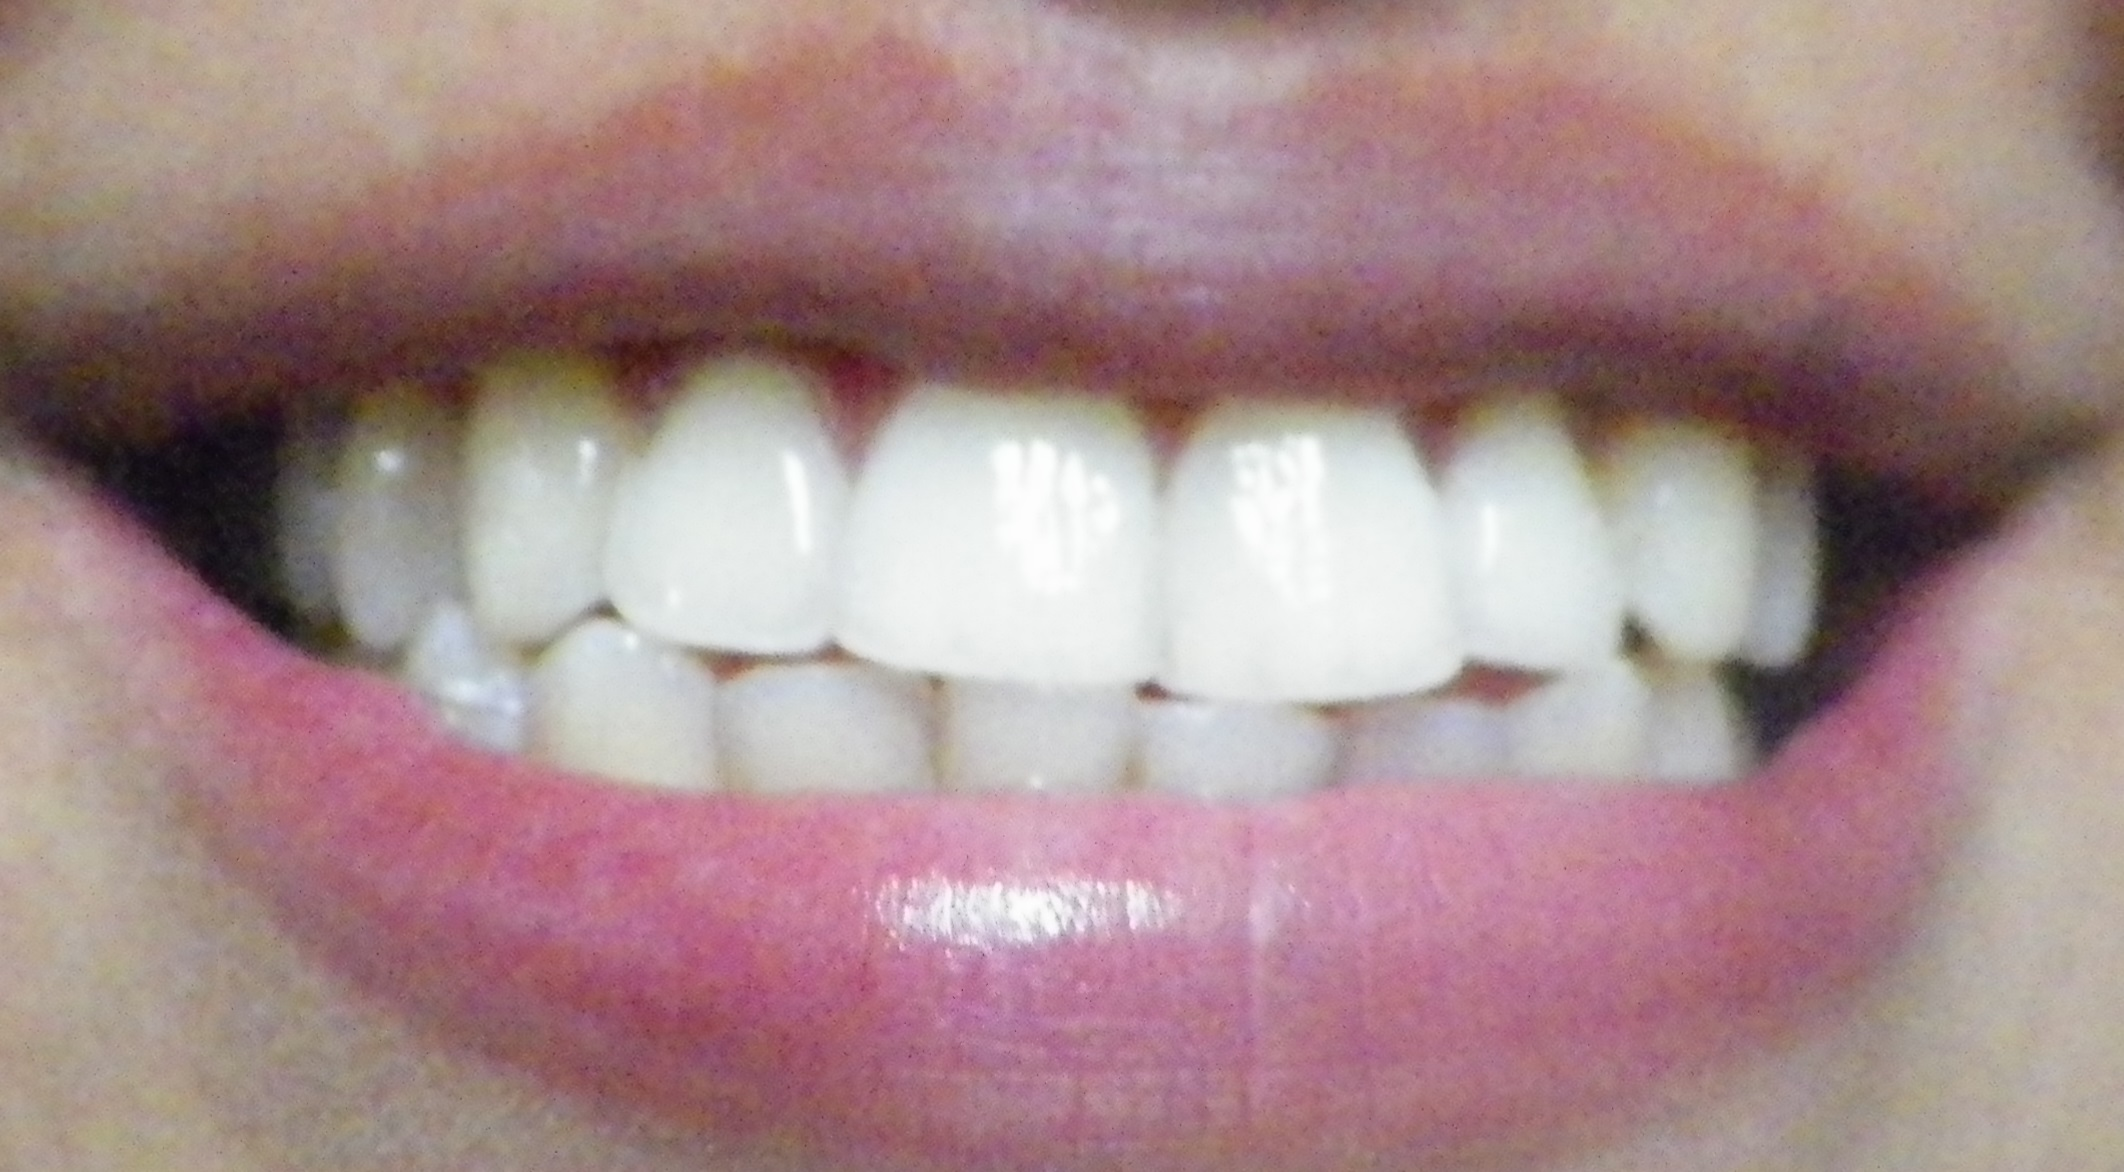boca: (264, 362, 1811, 800)
